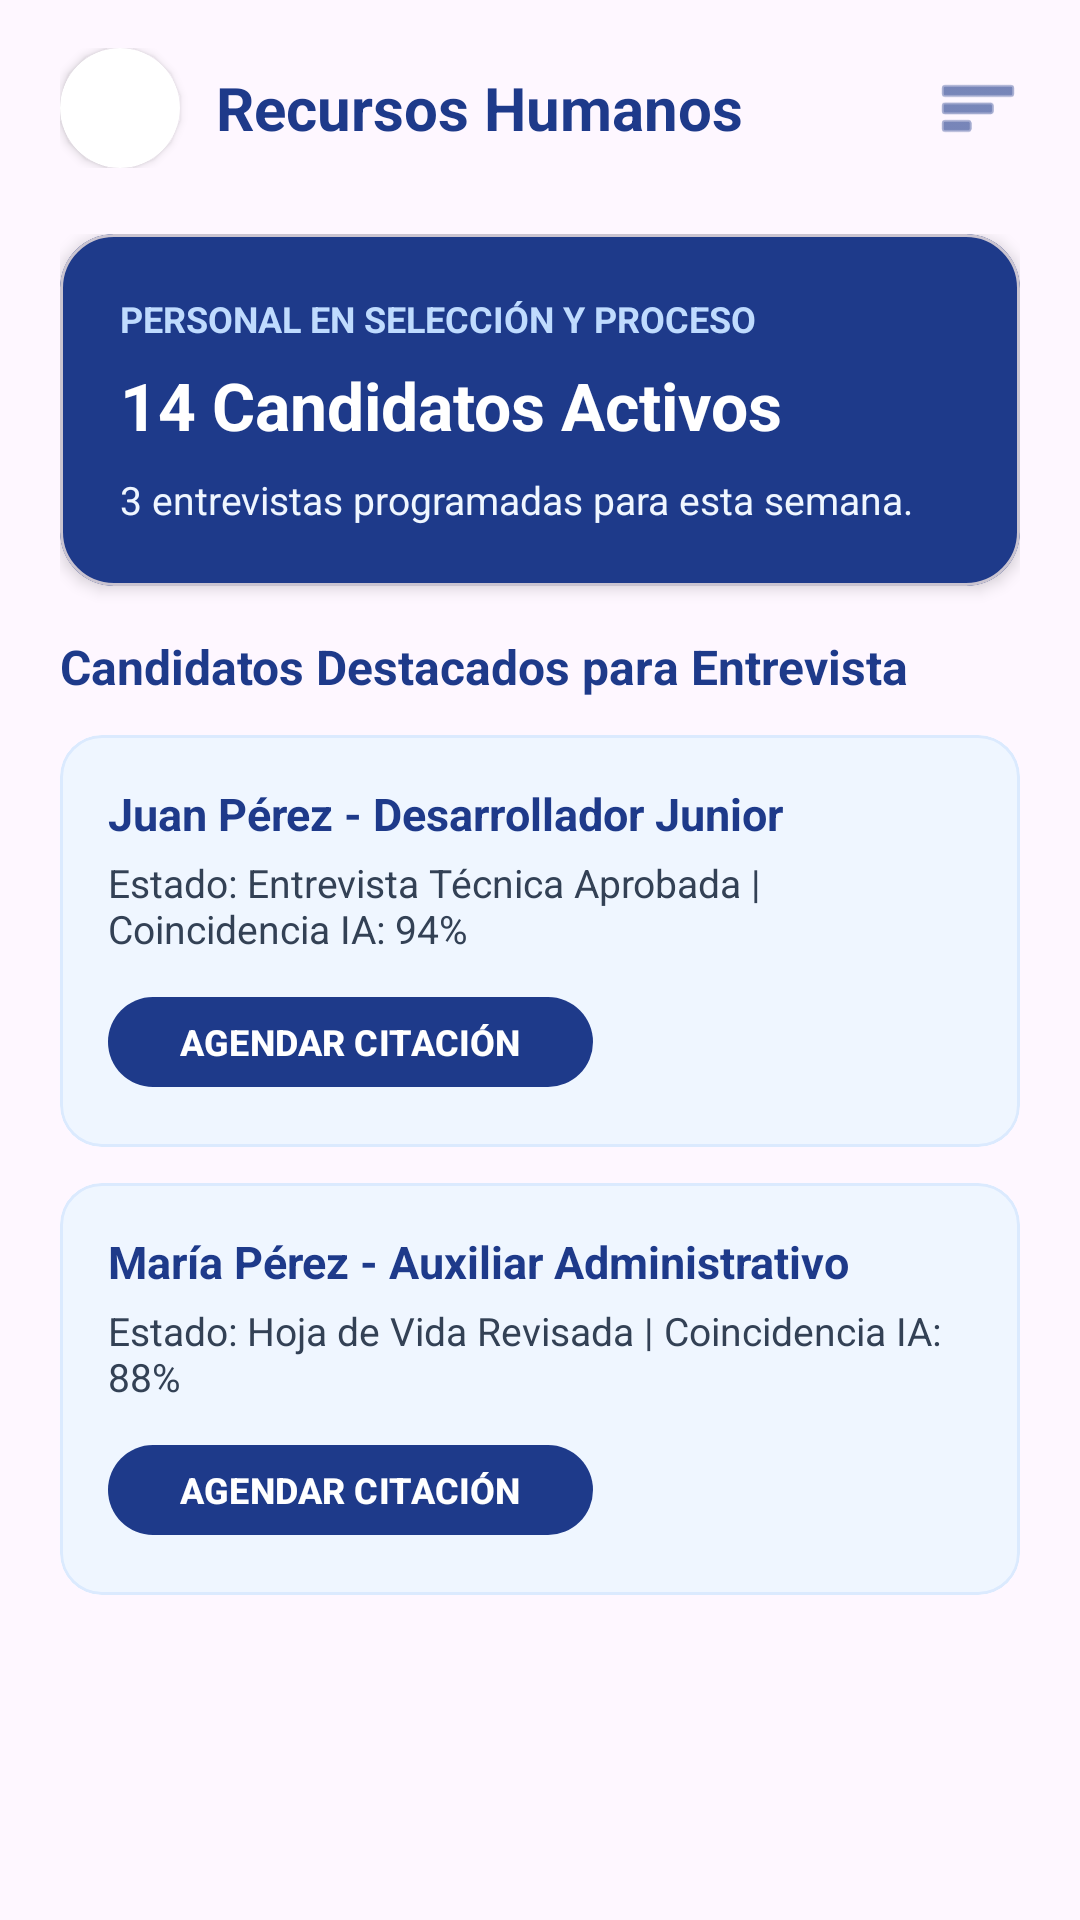

Named icons in this screenshot (1080 x 1920) and their bounding boxes, (x1, y1, x2, y2):
Menú: (942, 85, 1014, 132)
